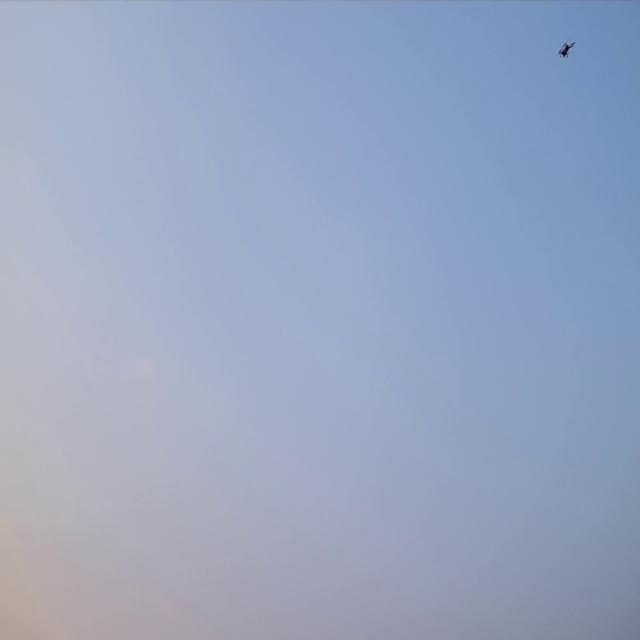UAV: (556, 37, 576, 60)
